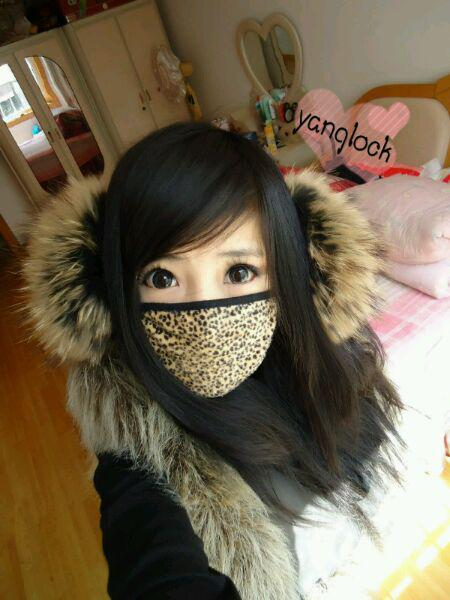OK: (133, 242, 296, 405)
